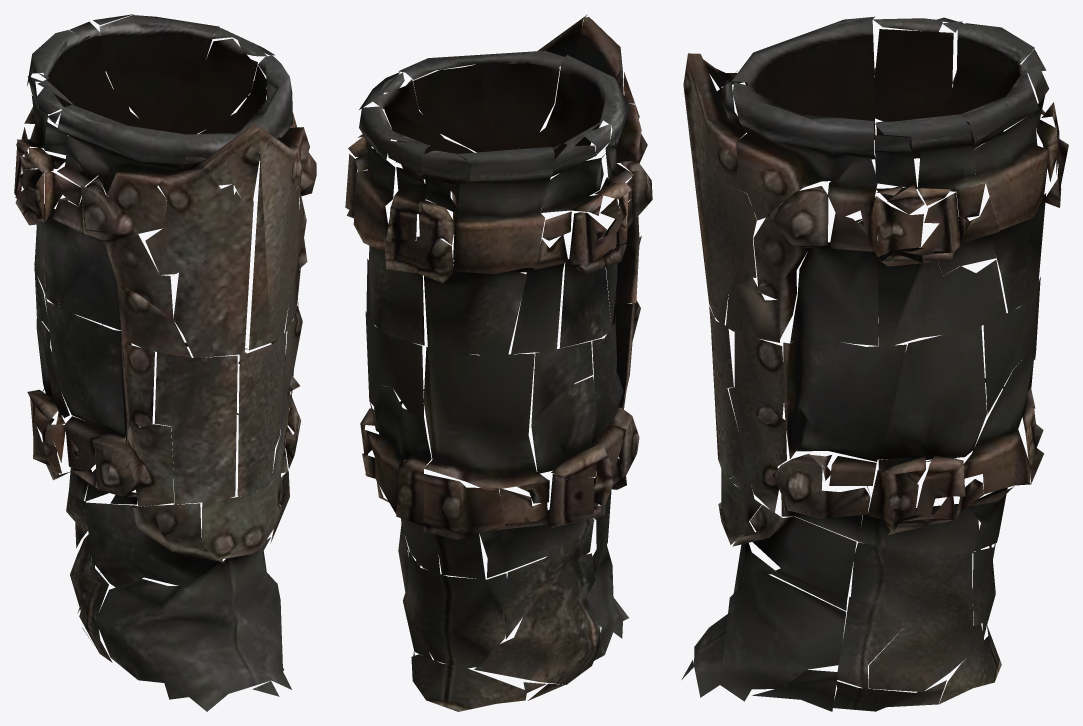
The model's file is a_sluice_boots_shaft.glb.
The picture shows the model from 3 angles, left to right: view 1: azimuth 30°, elevation 25°; view 2: azimuth 150°, elevation 25°; view 3: azimuth 270°, elevation 25°; orthographic projection. The views are drawn at different scales.
Parts seen in each view (by area): view 1: tripo_node_892a7d13-8db3-4021-8cfb-fa8c4bf19114; view 2: tripo_node_892a7d13-8db3-4021-8cfb-fa8c4bf19114; view 3: tripo_node_892a7d13-8db3-4021-8cfb-fa8c4bf19114.
Boxes of the visible parts, x1,y1,x2,y2 form: tripo_node_892a7d13-8db3-4021-8cfb-fa8c4bf19114: [14, 14, 316, 711]; tripo_node_892a7d13-8db3-4021-8cfb-fa8c4bf19114: [345, 14, 652, 711]; tripo_node_892a7d13-8db3-4021-8cfb-fa8c4bf19114: [681, 16, 1068, 711].
Size of the model in its own units: 0.1765 by 0.3699 by 0.2081.
Materials: 1 (1 with a texture image).
